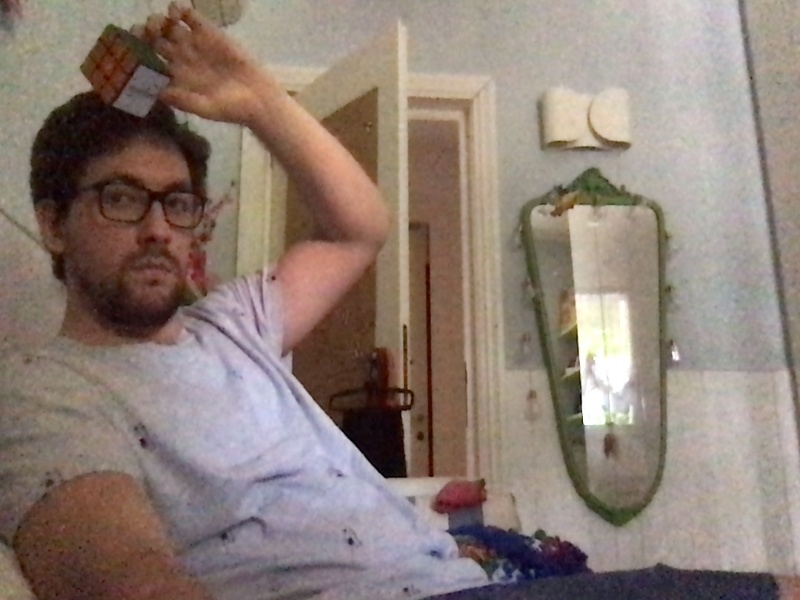rubik: (80, 23, 174, 120)
